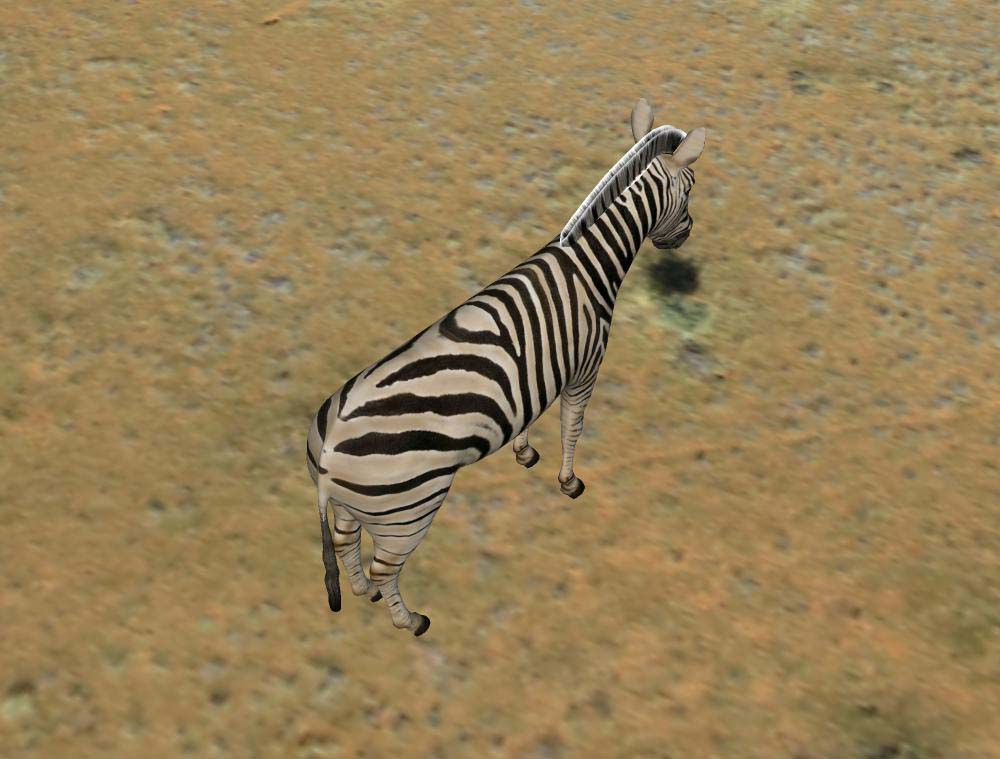zebra: (306, 97, 709, 637)
